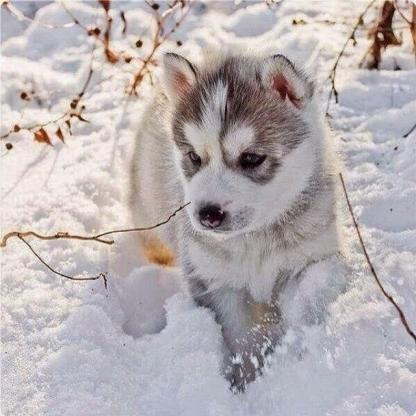husky: (106, 46, 343, 386)
